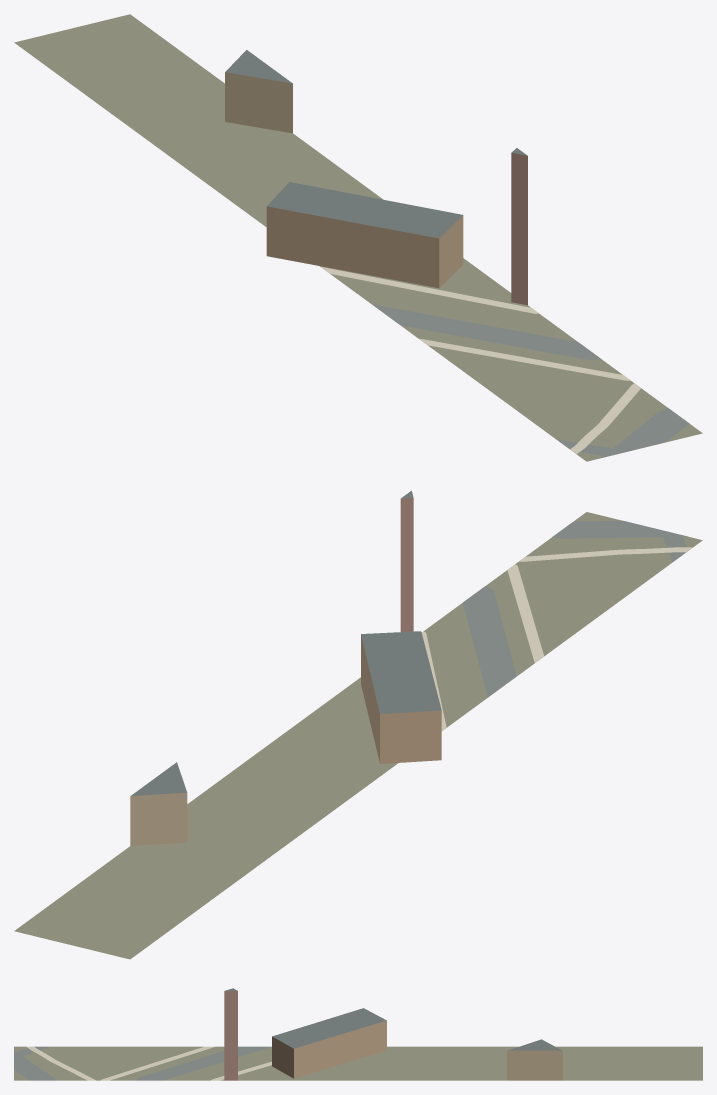
Rendered from sector-3_-6.glb.
3 views of the same model, one above another, from view 1: azimuth 30°, elevation 25°; view 2: azimuth 150°, elevation 25°; view 3: azimuth 270°, elevation 25° (orthographic). The views are drawn at different scales.
Visible parts, largest first — view 1: 3:-6-ground, 3:-6-facade, 3:-6-roof, 3:-6-road, 3:-6-paving; view 2: 3:-6-ground, 3:-6-facade, 3:-6-roof, 3:-6-road, 3:-6-paving; view 3: 3:-6-ground, 3:-6-facade, 3:-6-roof, 3:-6-road, 3:-6-paving.
Part boxes in pixels (<box>): 3:-6-ground: <box>14,14,702,461</box>; 3:-6-facade: <box>225,72,527,305</box>; 3:-6-roof: <box>225,50,527,238</box>; 3:-6-road: <box>372,304,689,457</box>; 3:-6-paving: <box>321,267,640,453</box>; 3:-6-ground: <box>14,512,702,959</box>; 3:-6-facade: <box>130,498,441,845</box>; 3:-6-roof: <box>131,490,441,795</box>; 3:-6-road: <box>462,520,687,697</box>; 3:-6-paving: <box>421,547,692,730</box>; 3:-6-ground: <box>14,1046,702,1080</box>; 3:-6-facade: <box>224,991,562,1080</box>; 3:-6-roof: <box>225,988,561,1050</box>; 3:-6-road: <box>14,1046,271,1080</box>; 3:-6-paving: <box>26,1046,271,1080</box>.
Size of the model in its own units: 29.38 by 28.8 by 200.
